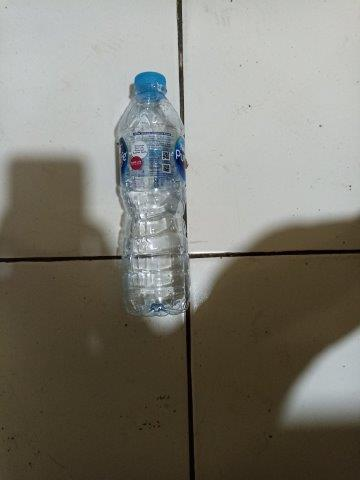botolplastik: (117, 70, 189, 314)
